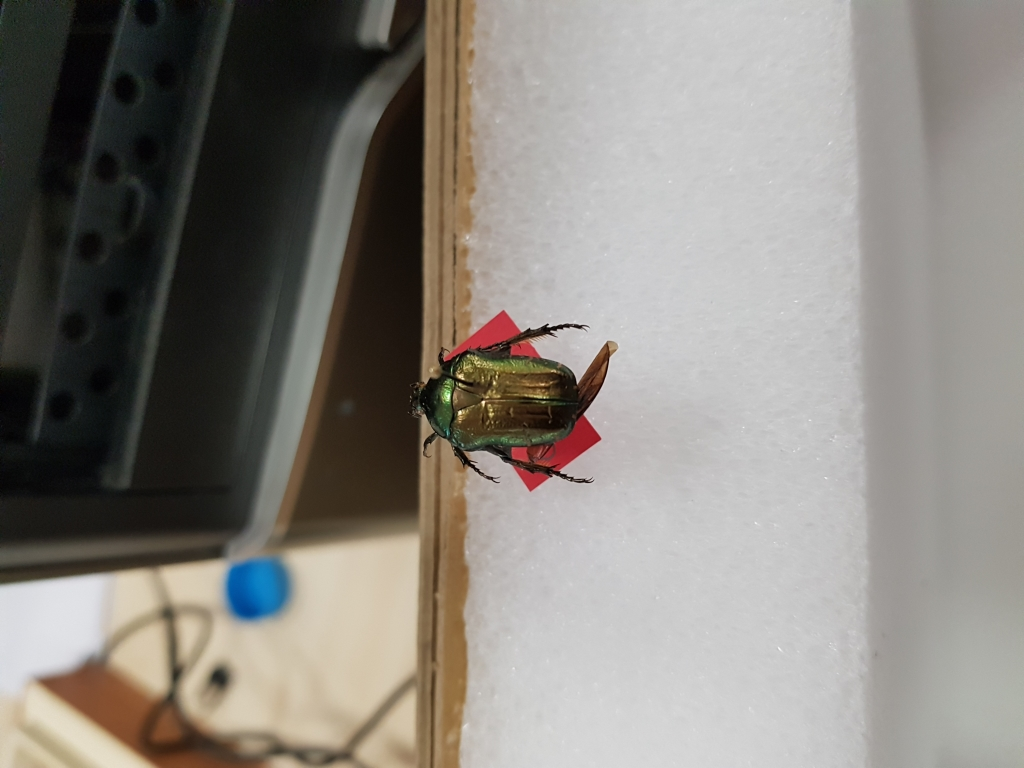Cetonia_kemali: (406, 315, 620, 486)
